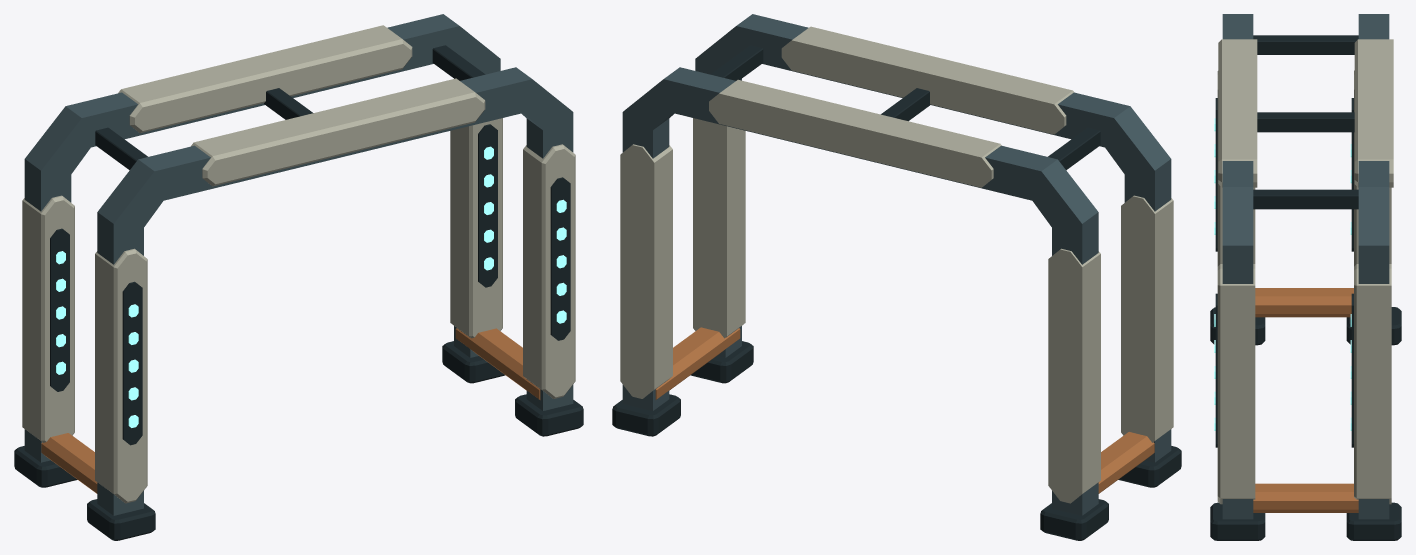
File: HC-11_cold_scan_bridge.glb
3 views of the same model, side by side, from view 1: azimuth 30°, elevation 25°; view 2: azimuth 150°, elevation 25°; view 3: azimuth 270°, elevation 25° (orthographic). The views are drawn at different scales.
Parts seen in each view (by area): view 1: HC-11_cold_scan_bridge; view 2: HC-11_cold_scan_bridge; view 3: HC-11_cold_scan_bridge.
Part boxes in pixels (x1,y1,x2,y2): HC-11_cold_scan_bridge: (14,14,583,540); HC-11_cold_scan_bridge: (612,14,1181,540); HC-11_cold_scan_bridge: (1210,14,1401,540).
Size of the model in its own units: 7.52 by 5.42 by 2.81.
